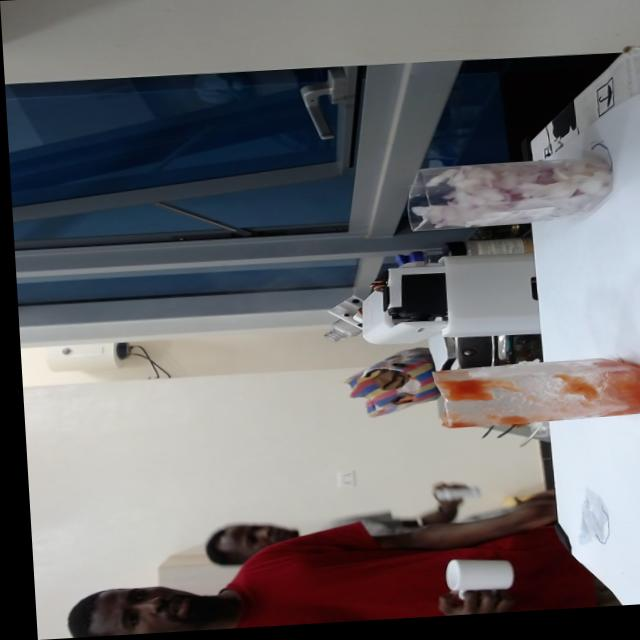blended_tomatoes_pepper: (549, 359, 640, 427)
sliced_onions: (402, 160, 614, 233)
